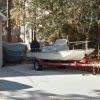Boat: (22, 41, 100, 79)
